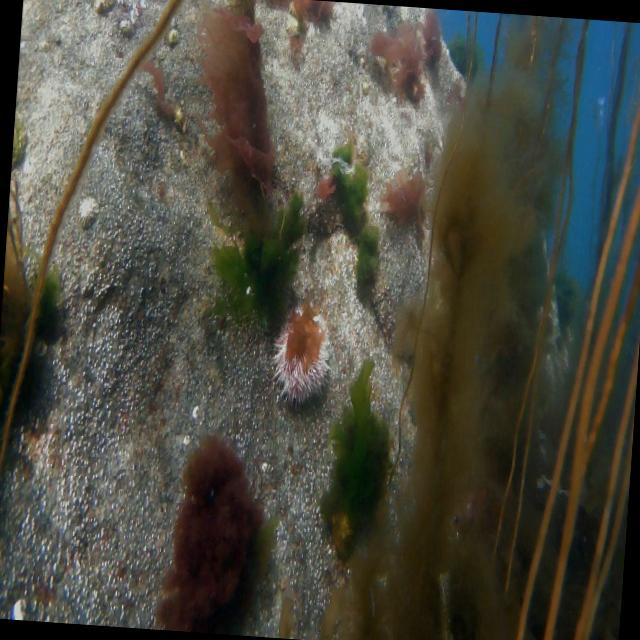Deniz Kestanesi: (266, 304, 336, 410)
